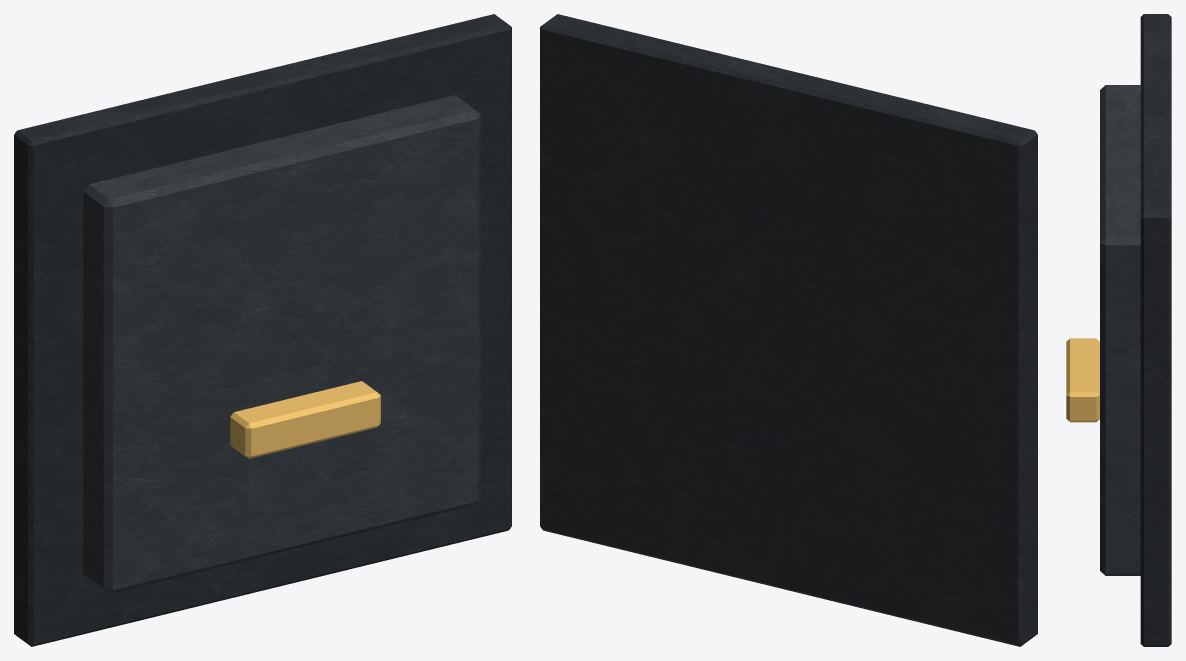
The model's file is train_hatch.gltf.
3 renders of one model, left to right at view 1: azimuth 30°, elevation 25°; view 2: azimuth 150°, elevation 25°; view 3: azimuth 270°, elevation 25°, orthographic. The views are drawn at different scales.
Size of the model in its own units: 1 by 1 by 0.22.
Materials: 4 (3 with a texture image).
